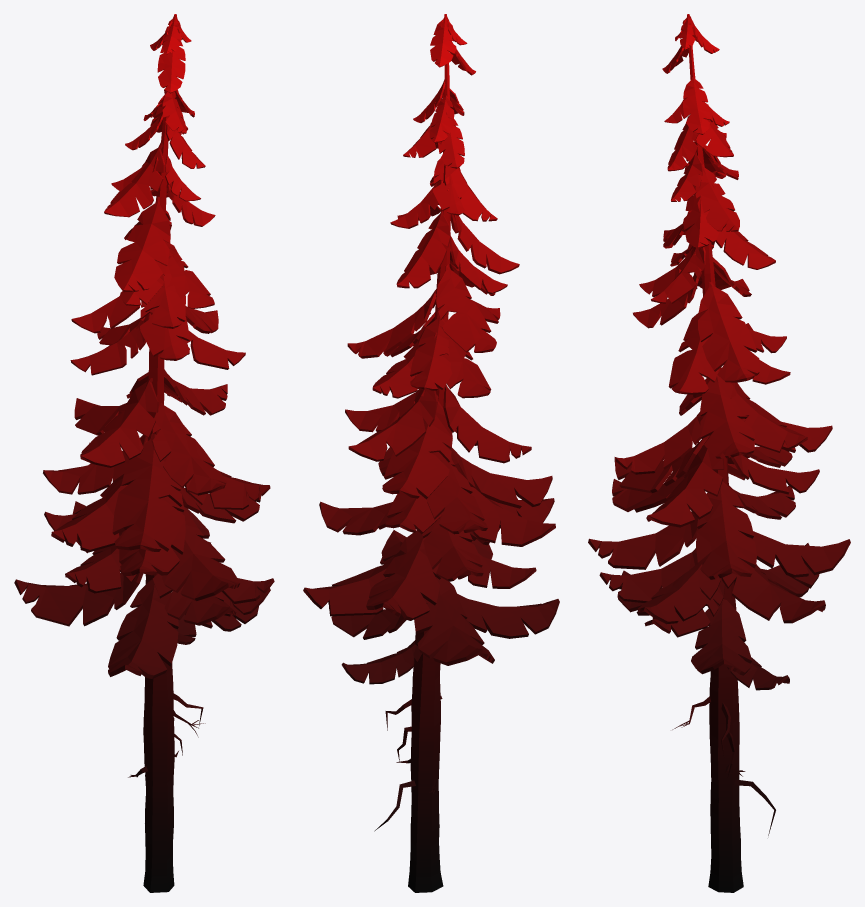
File: TreeSpruceTall02.fbx
3 views of the same model, side by side, from view 1: azimuth 30°, elevation 25°; view 2: azimuth 150°, elevation 25°; view 3: azimuth 270°, elevation 25° (orthographic). The views are drawn at different scales.
Parts seen in each view (by area): view 1: TreeSpruceTall02_LOD0; view 2: TreeSpruceTall02_LOD0; view 3: TreeSpruceTall02_LOD0.
Part boxes in pixels (<box>): TreeSpruceTall02_LOD0: <box>14,14,274,892</box>; TreeSpruceTall02_LOD0: <box>303,14,559,892</box>; TreeSpruceTall02_LOD0: <box>588,14,850,892</box>.
Size of what is drawn, in the model's own units: 293 by 1093 by 299.
